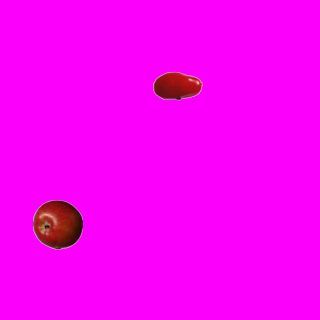Apple Braeburn: (32, 199, 82, 249)
Tomato 2: (152, 60, 202, 110)
